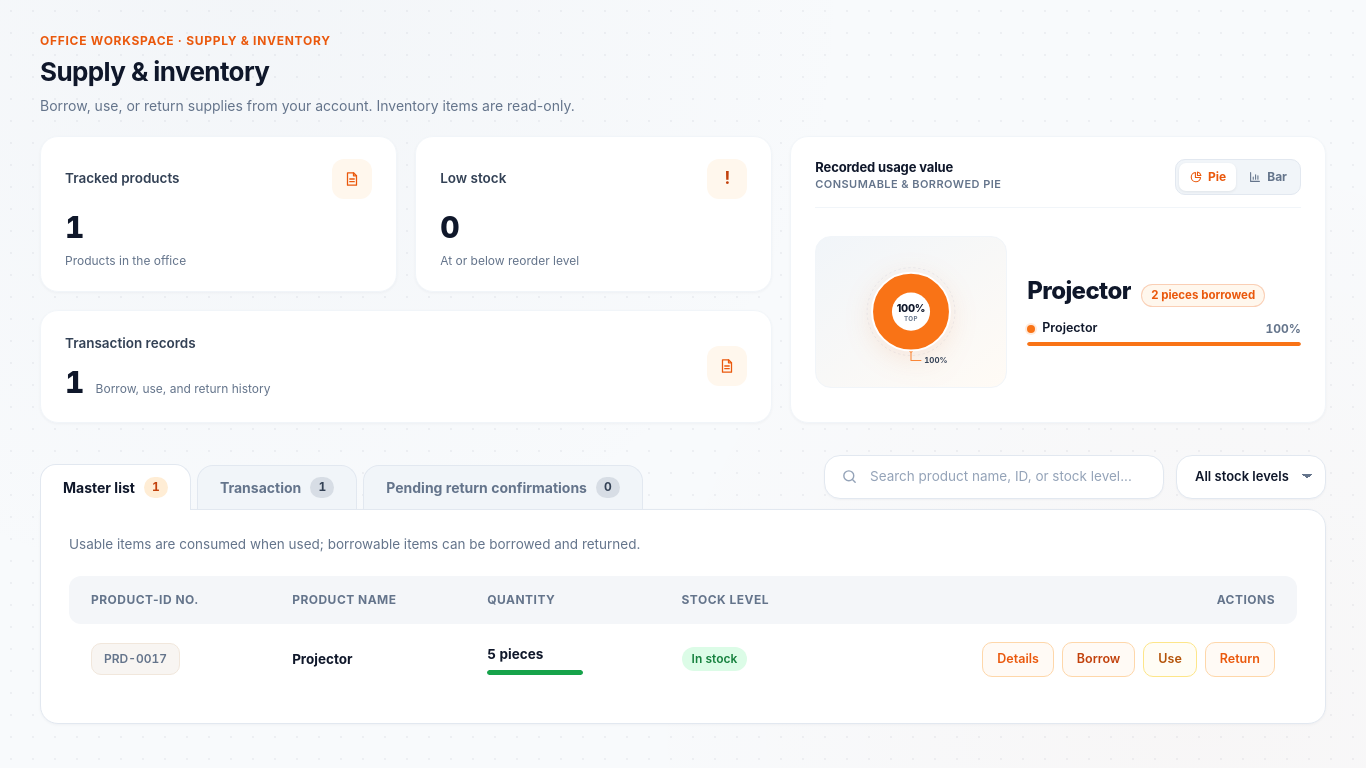
Test: Dean can act on inventory from their own account without management controls
Expected: the button "Borrow" is enabled, x1=1062 y1=642 x2=1135 y2=677
Expected: the button "Use" is enabled, x1=1143 y1=642 x2=1197 y2=677
What coordinates should you click on to do the following:
click the button "Return"
I would click on:
 (1240, 659)
Its box is x1=1205 y1=642 x2=1275 y2=677.
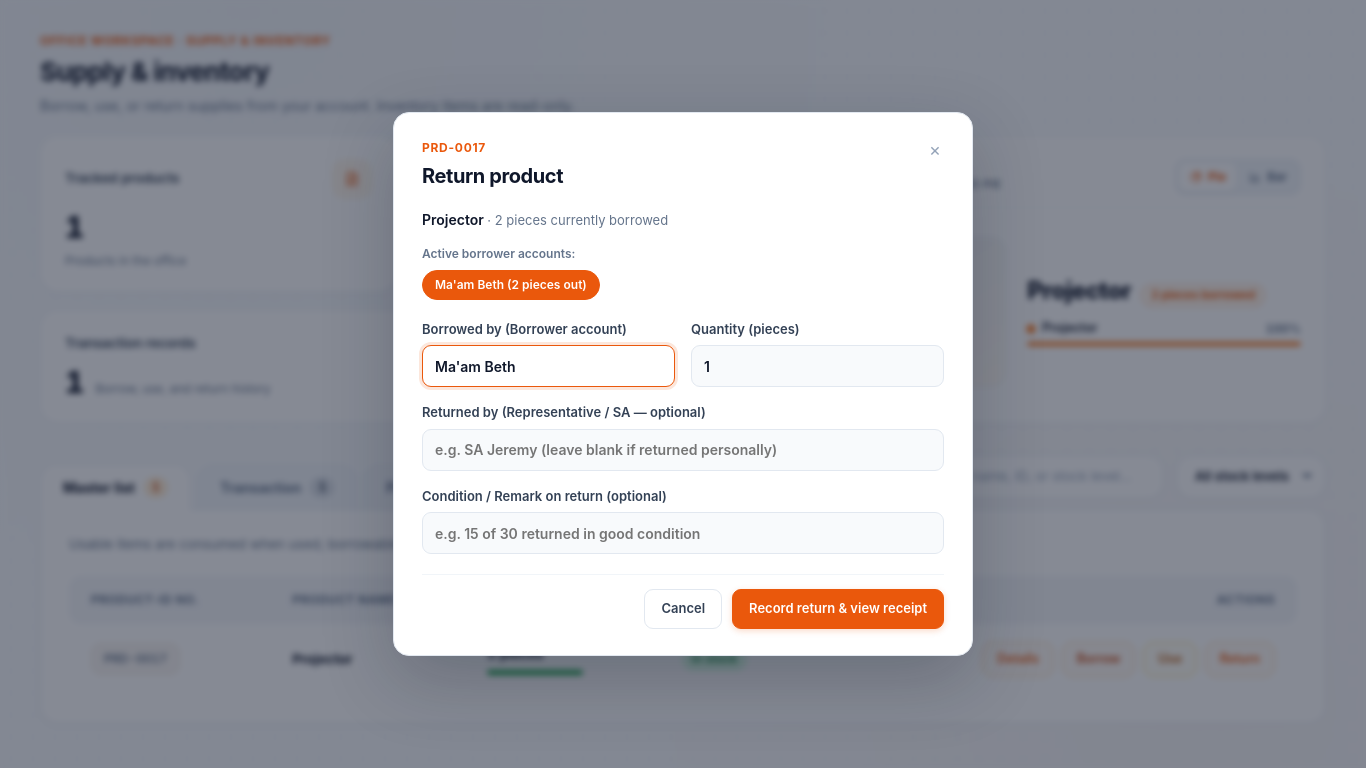
Expected: the field labelled "Borrowed by (Borrower account)" holds "Ma'am Beth", x1=422 y1=345 x2=675 y2=387
